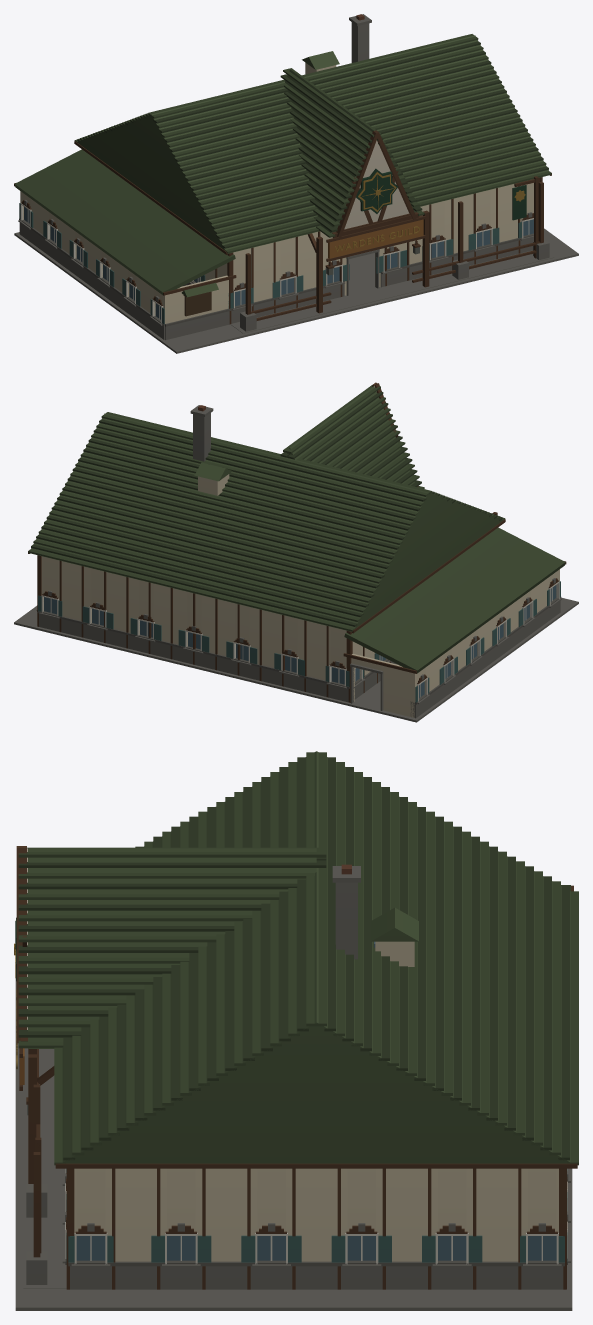
The model's file is town_guild_hall.glb.
3 renders of one model, top to bottom at view 1: azimuth 30°, elevation 25°; view 2: azimuth 150°, elevation 25°; view 3: azimuth 270°, elevation 25°, orthographic. The views are drawn at different scales.
Parts seen in each view (by area): view 1: prop; view 2: prop; view 3: prop.
Part boxes in pixels (box(x1,y1,x2,y2)): prop: box(14, 14, 578, 353); prop: box(14, 382, 578, 722); prop: box(14, 751, 578, 1310).
Size of the model in its own units: 26.52 by 12.57 by 18.78.
